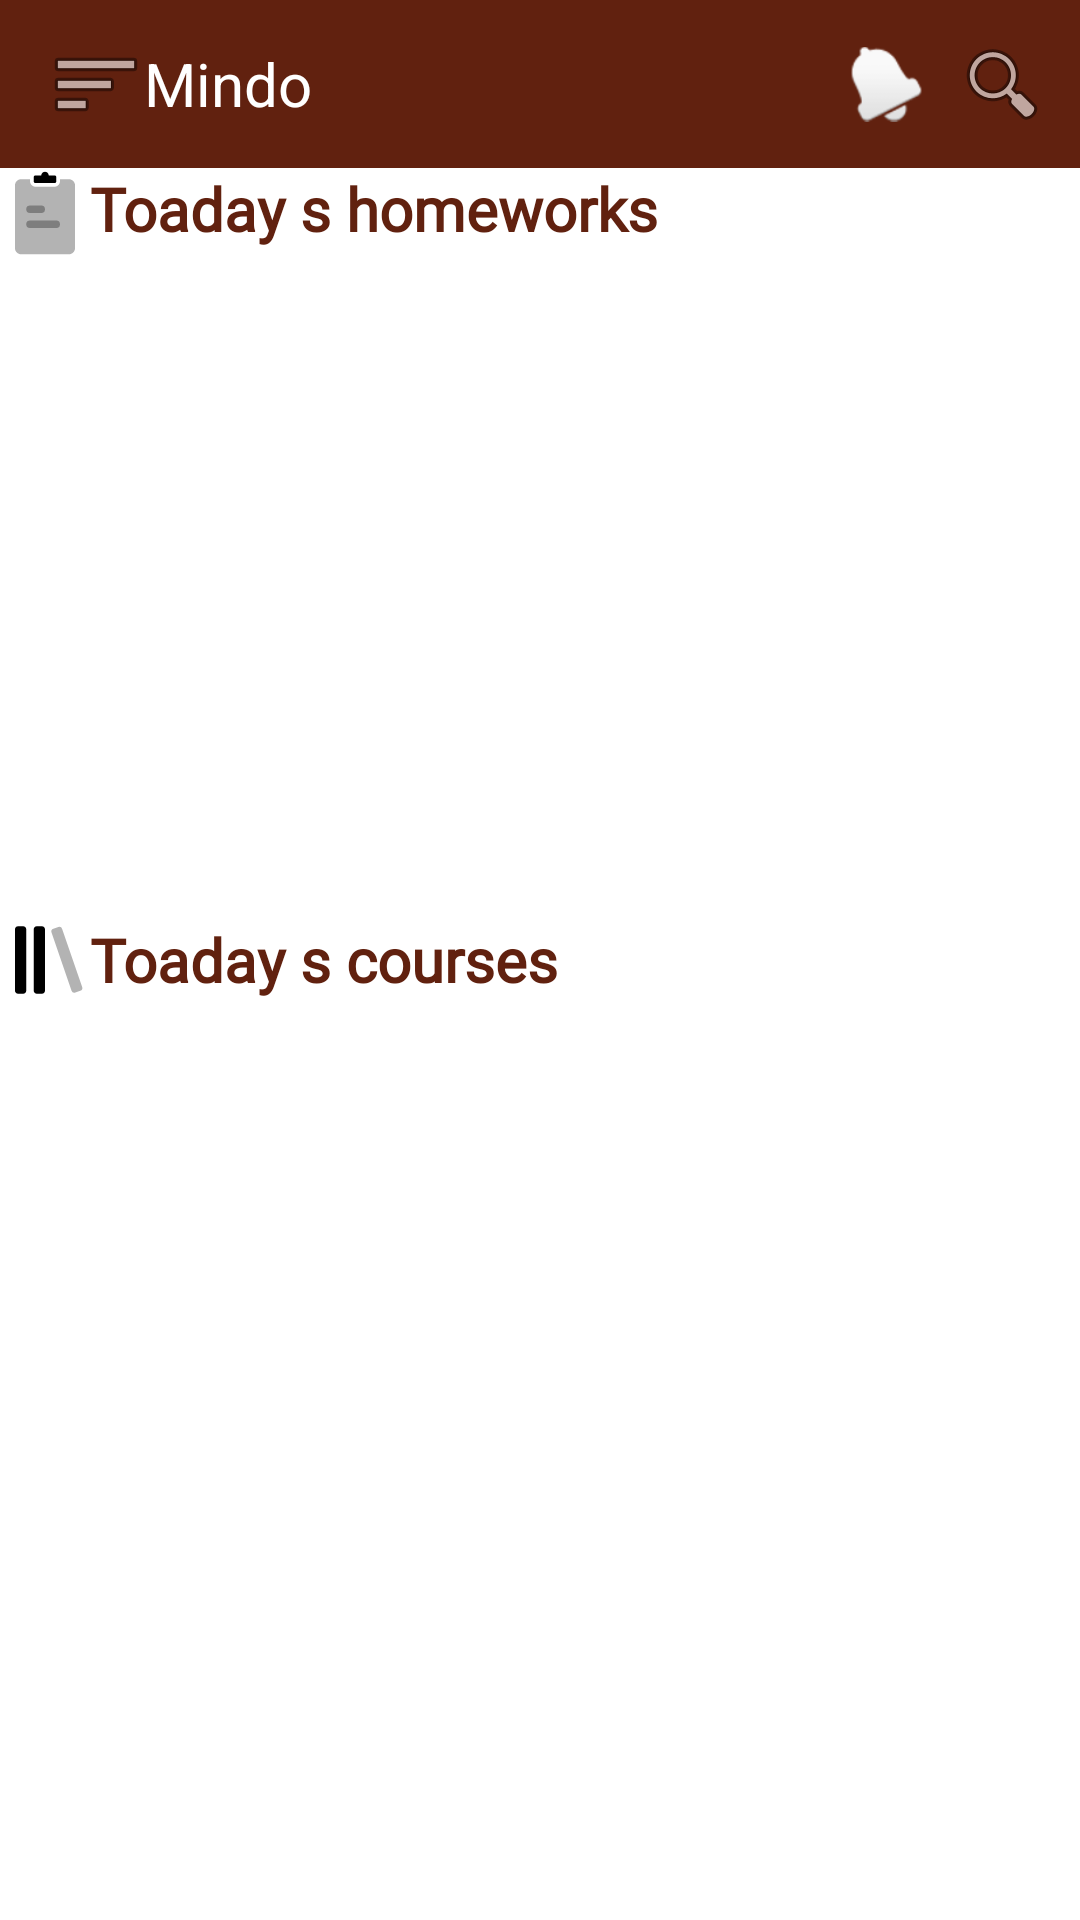

Screen size 1080x1920. Icon name, then its box in pixels as (x1, y1, x2, y2):
notifications: (851, 47, 922, 122)
search: (967, 49, 1037, 120)
sort by size: (55, 58, 137, 111)
